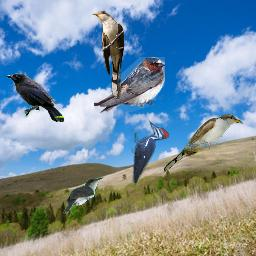Crow: (6, 73, 64, 122)
Cuckoo: (162, 113, 244, 172), (92, 11, 125, 99), (63, 177, 104, 214)
Swallow: (94, 57, 165, 114)
Woodpecker: (131, 119, 169, 186)
